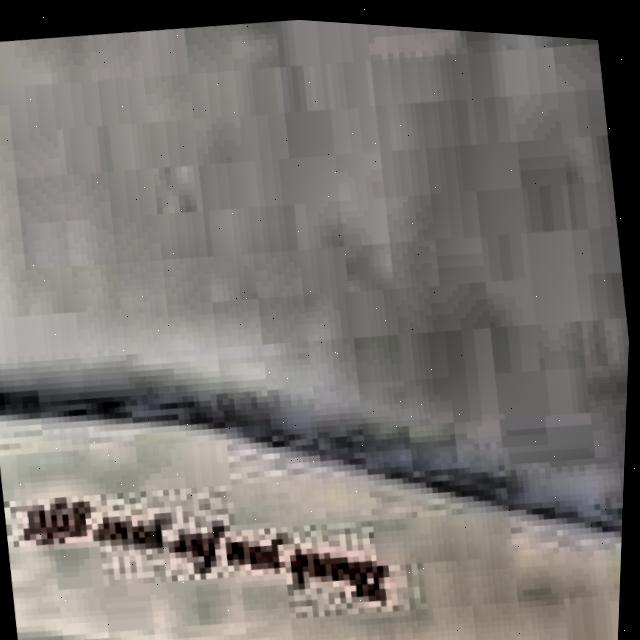paper: (0, 16, 631, 640)
